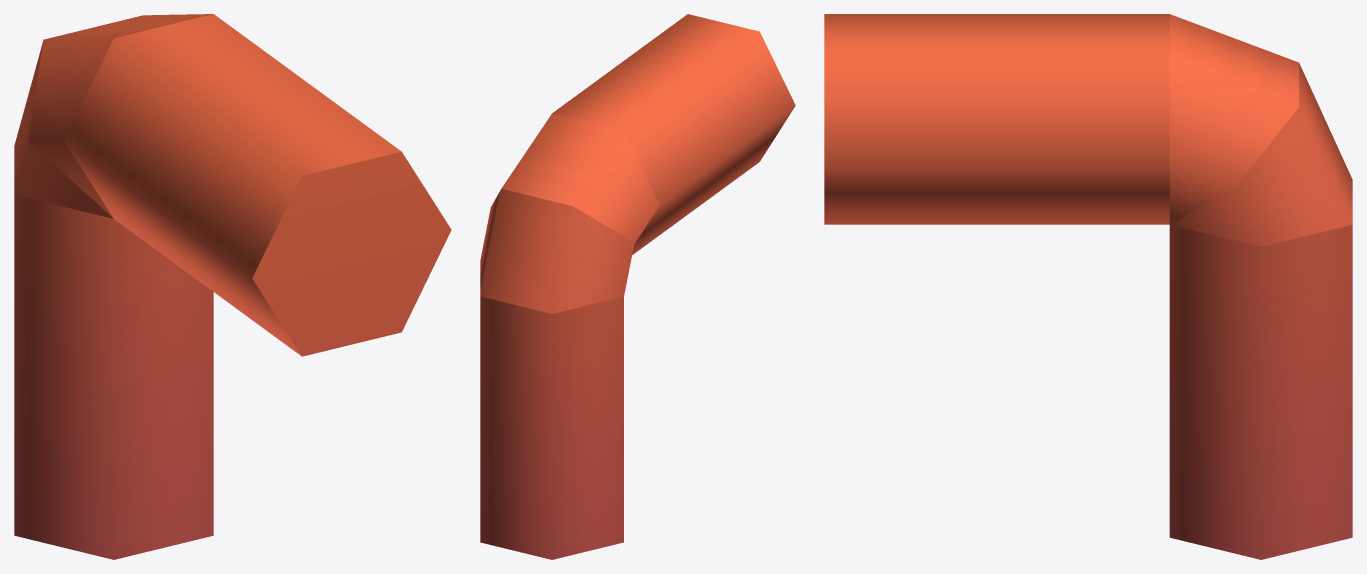
File: pipe-corner.fbx
3 views of the same model, side by side, from view 1: azimuth 30°, elevation 25°; view 2: azimuth 150°, elevation 25°; view 3: azimuth 270°, elevation 25° (orthographic). The views are drawn at different scales.
Visible parts, largest first — view 1: pipe-corner; view 2: pipe-corner; view 3: pipe-corner.
Part boxes in pixels (left/top/right/bottom): pipe-corner: left=14, top=14, right=451, bottom=559; pipe-corner: left=480, top=14, right=795, bottom=559; pipe-corner: left=824, top=14, right=1352, bottom=559.
Size of the model in its own units: 20 by 50 by 50.
